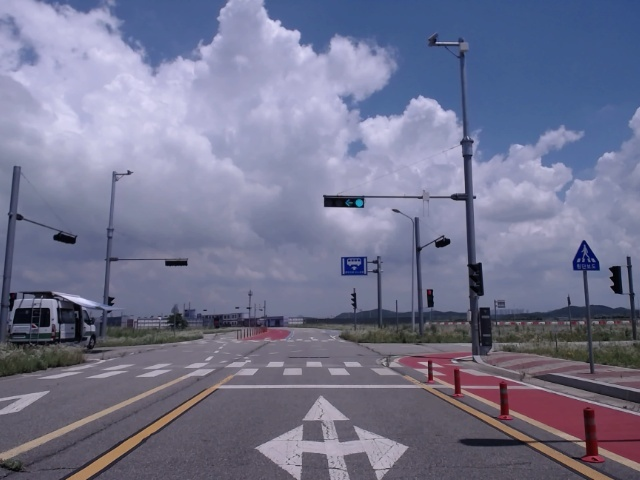all_green_4: (325, 194, 366, 208)
